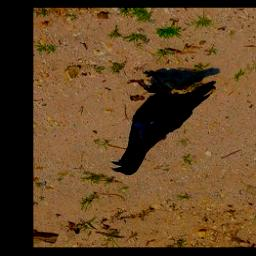Crow: (110, 71, 215, 176)
